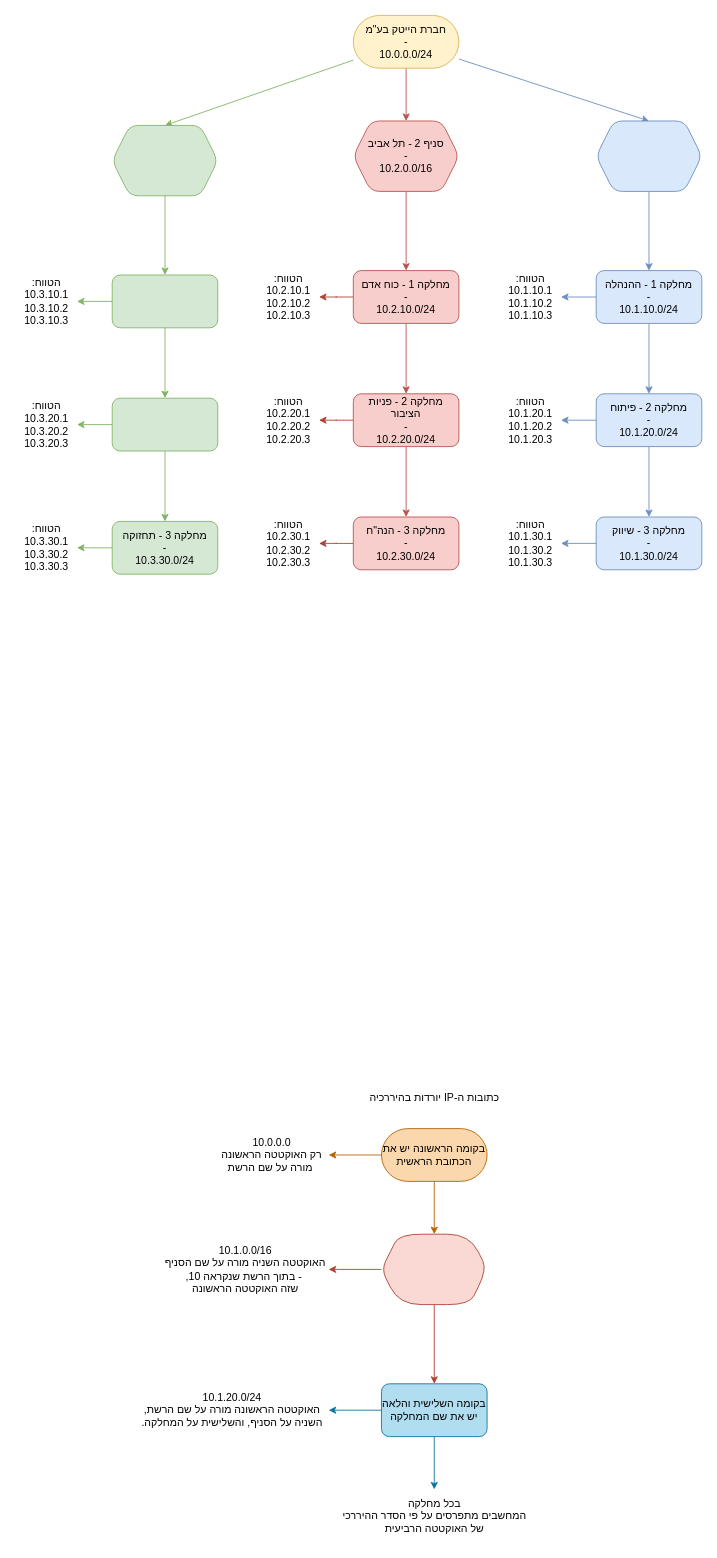
The diagram is 717 pixels wide and 1558 high, and some of its shapes have lost their labels. Here are the shapes that lost their labels. From the top down, the centre of each, then its label:
At [164,160]: "סניף 3 - בת ים - 10.3.0.0/16".
At [648,155]: "סניף 1 - ירושלים - 10.1.0.0/16".
At [164,301]: "מחלקה 1 - משפטית - 10.3.10.0/24".
At [164,424]: "מחלקה 2 - רכש - 10.3.20.0/24".
At [434,1269]: "בקומה השניה יש את כתובת המשנה - לכל סניף".
